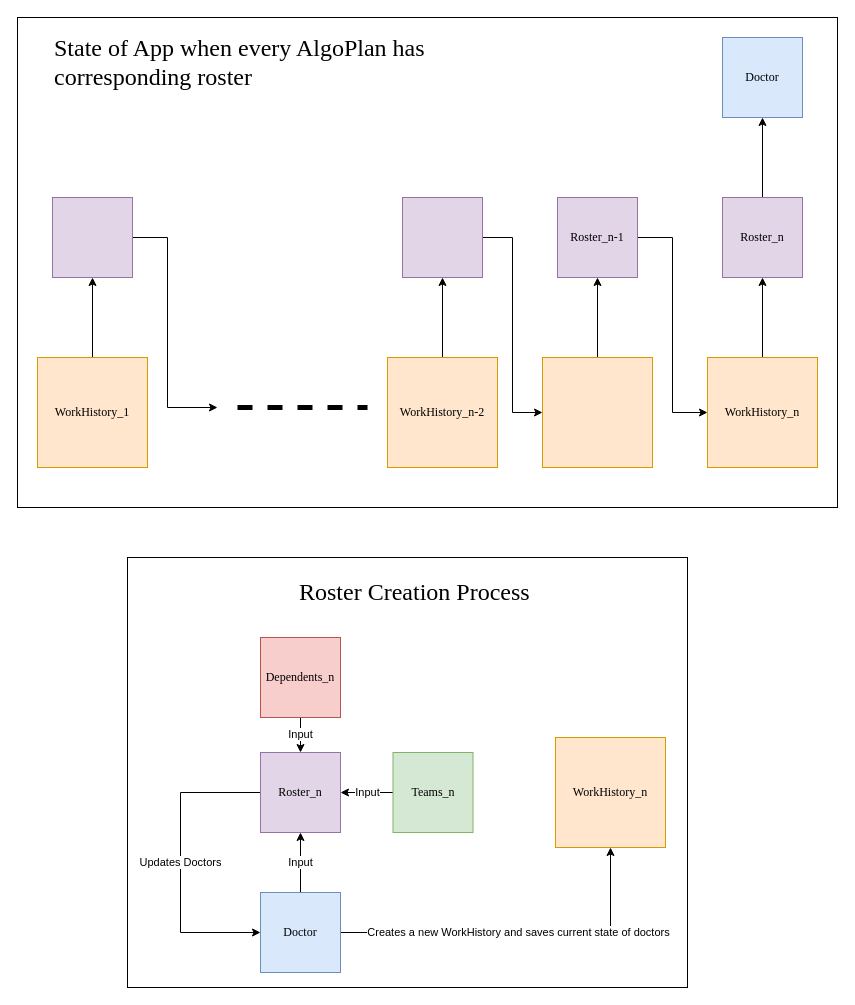
This 855x1005 diagram has some shape labels left out. Each missing label, with the centre of its shape:
Roster_1: the point at 92,237
Roster_n-2: the point at 442,237
WorkHistory_n-1: the point at 597,412
